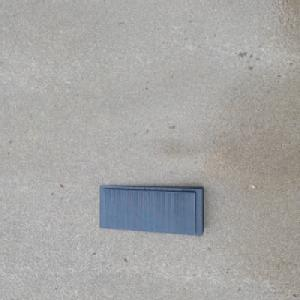PlasticPart: (98, 184, 205, 236)
